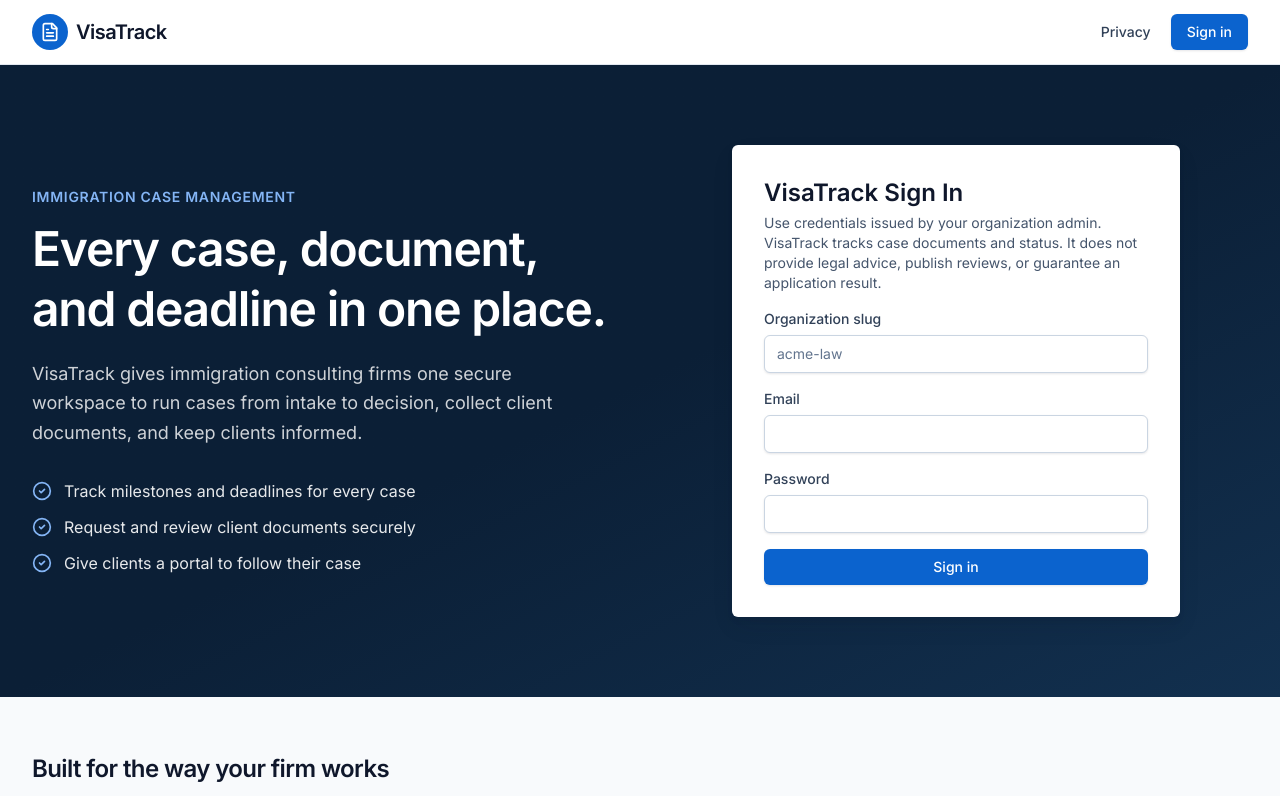
Test case: PortalAuthGate sign-in form › CT-AUTH-07: shows the error when sign-in fails
In the field labelled "Organization slug": [956, 354] box [764,335,1148,373], type "  acme-law  "
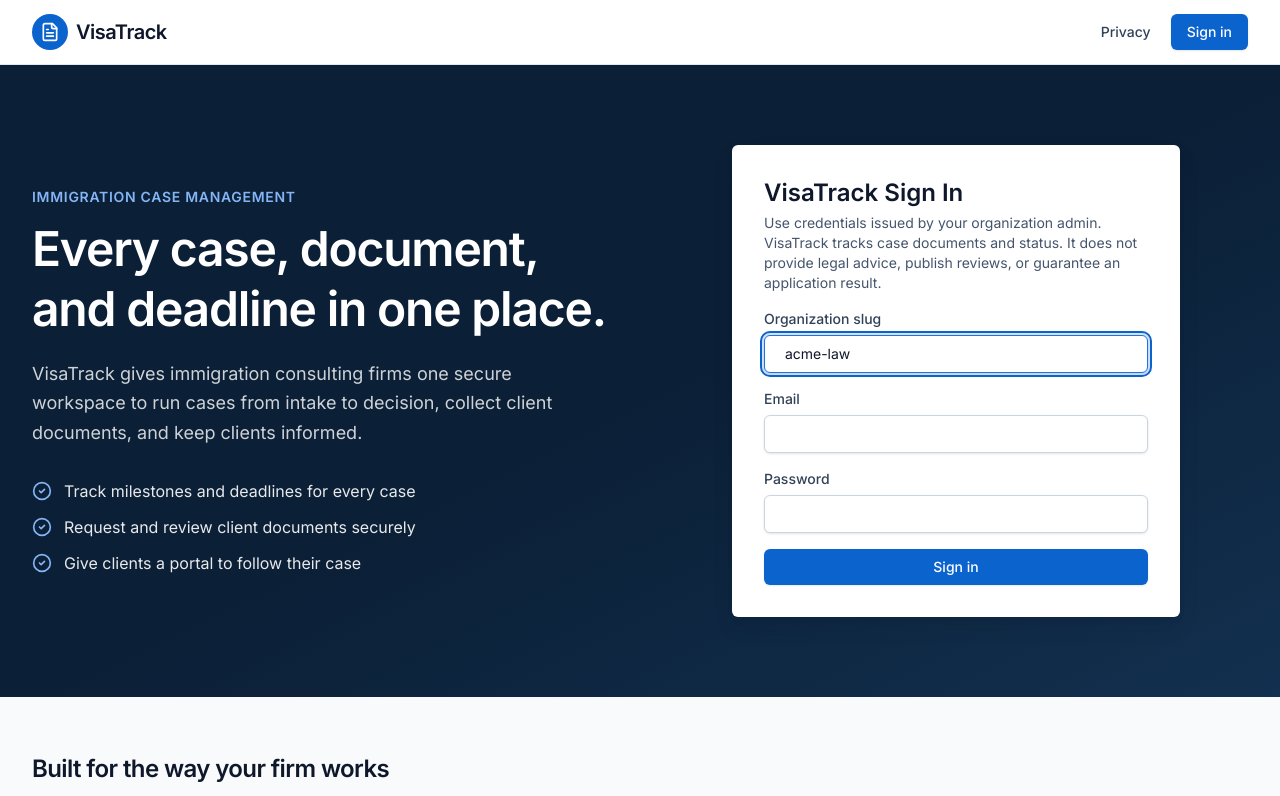
In the field labelled "Email": [956, 434] box [764,415,1148,453], type "  lawyer@example.test "
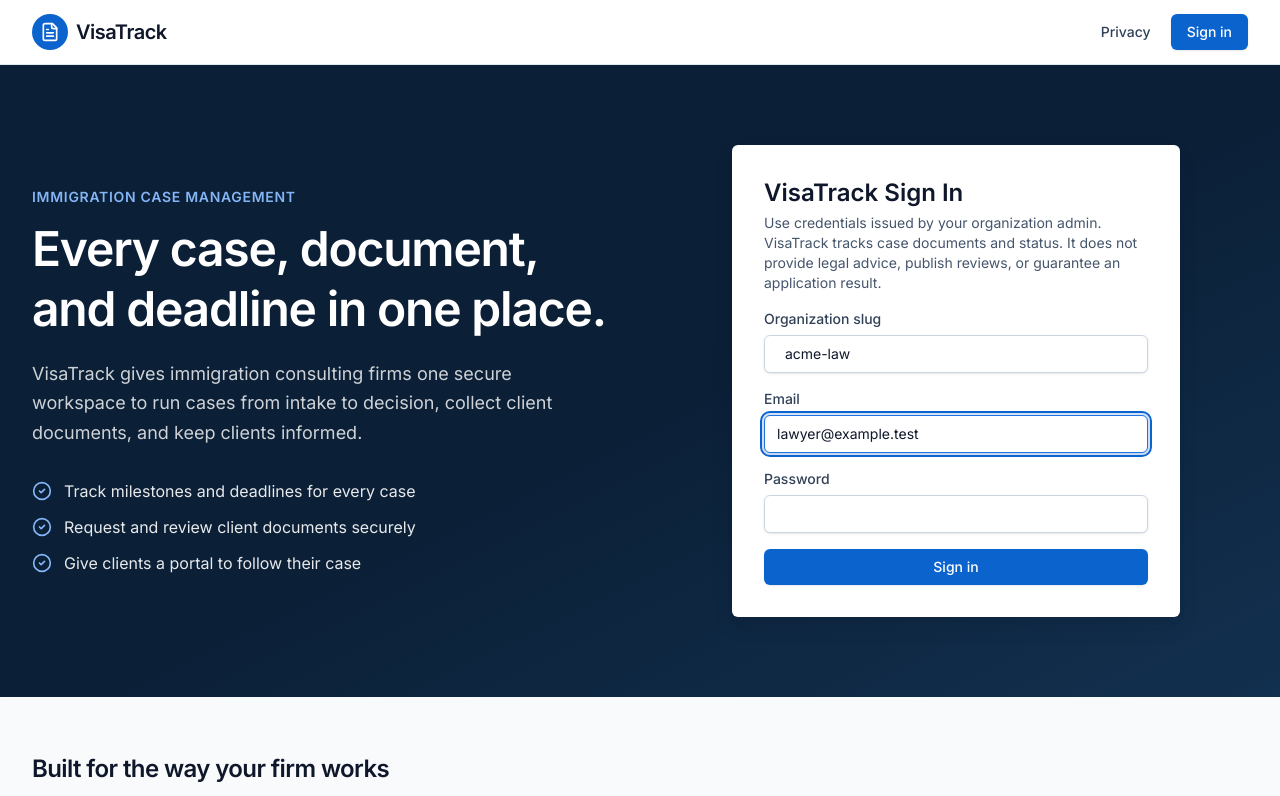
In the password field labelled "Password": [956, 514] box [764,495,1148,533], type "Synthetic-password-1"
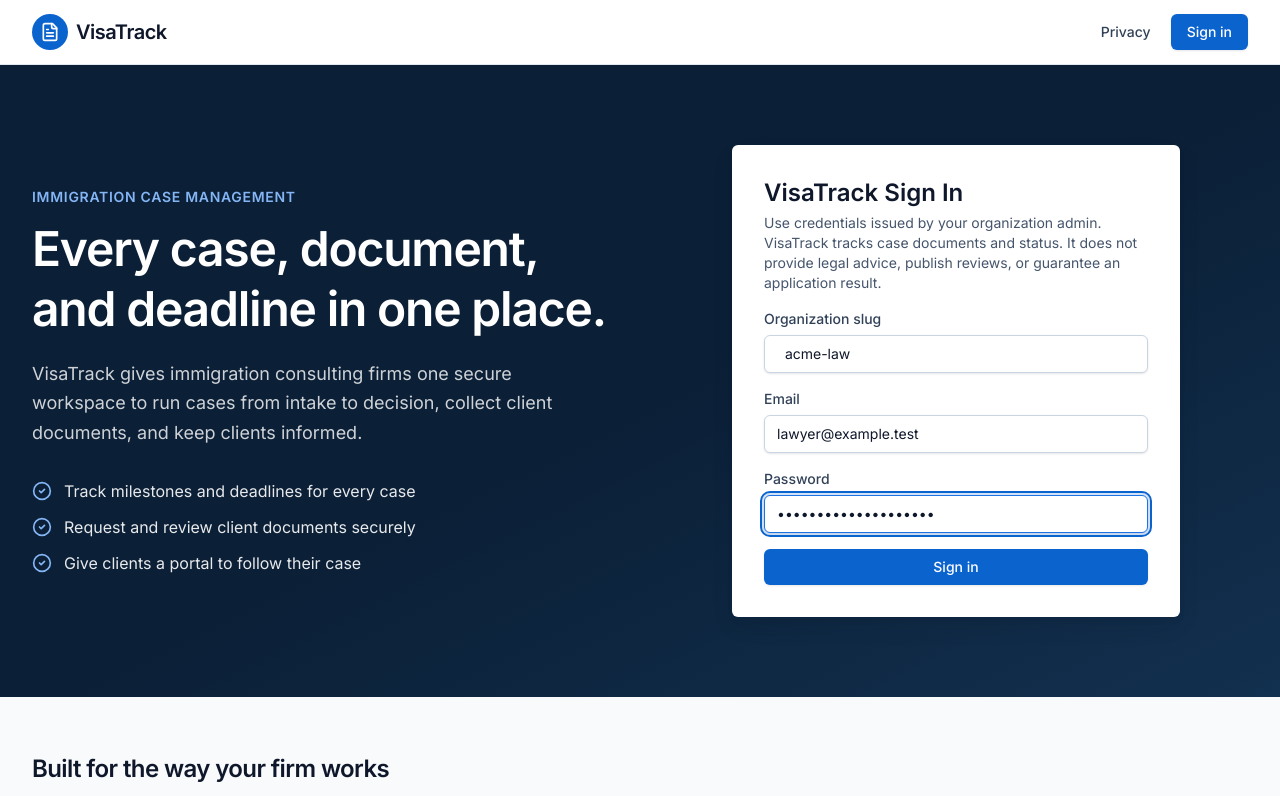
Click the button "Sign in": [956, 567] box [764,549,1148,585]
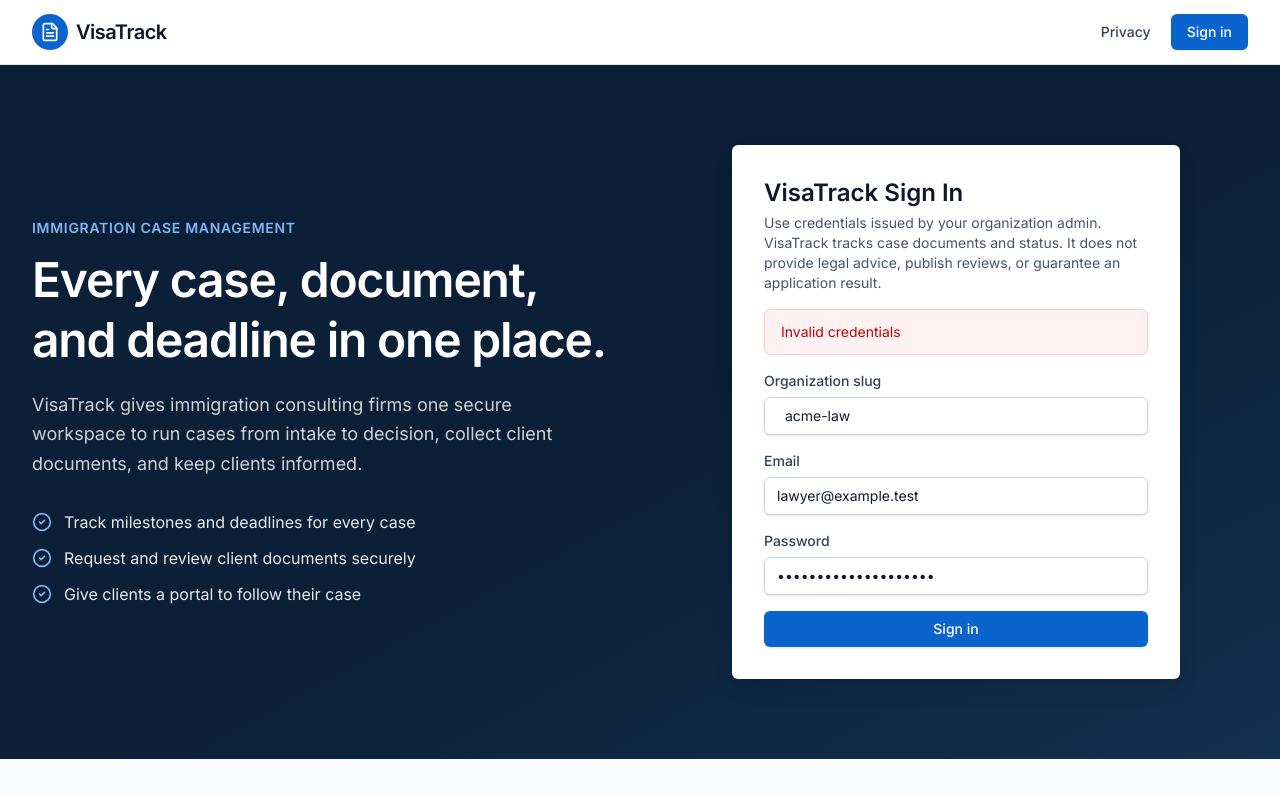
Now the text "Invalid credentials" is shown, box [764,309,1148,355]
